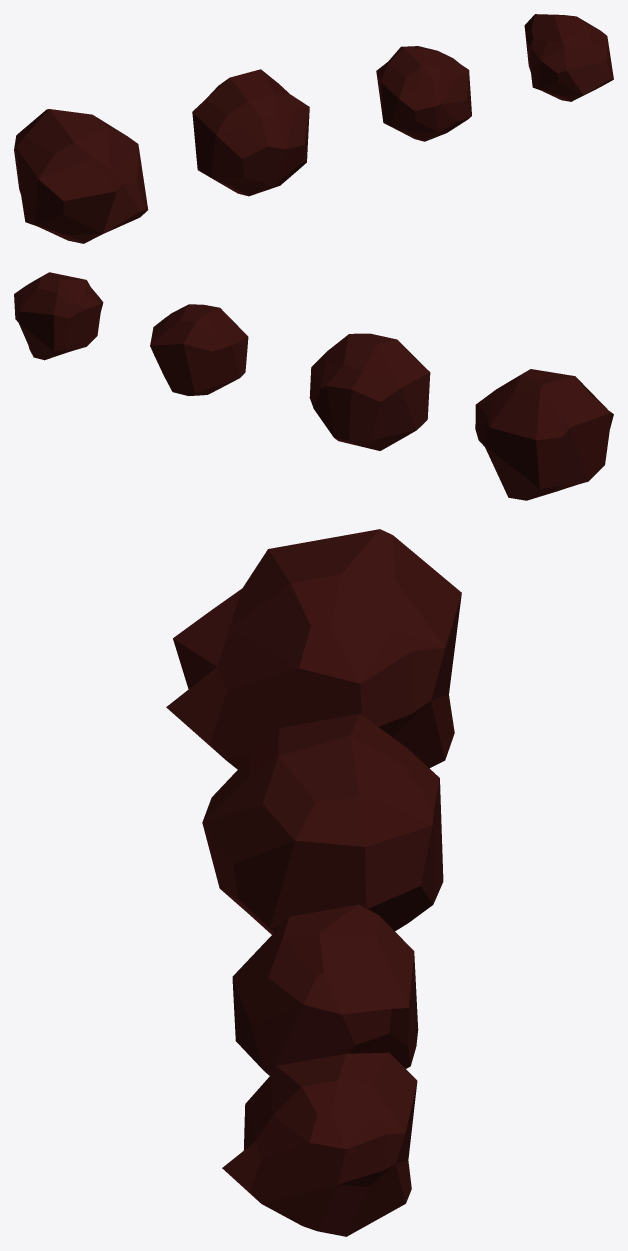
The model's file is rocks.fbx.
3 views of the same model, one above another, from view 1: azimuth 30°, elevation 25°; view 2: azimuth 150°, elevation 25°; view 3: azimuth 270°, elevation 25° (orthographic). The views are drawn at different scales.
Visible parts, largest first — view 1: rock4, rock3, rock2, rock1; view 2: rock4, rock3, rock2, rock1; view 3: rock4, rock3, rock1, rock2.
Part boxes in pixels (<box>): rock4: <box>14,109,148,243</box>; rock3: <box>192,69,309,196</box>; rock2: <box>376,46,471,141</box>; rock1: <box>524,14,613,101</box>; rock4: <box>475,369,613,500</box>; rock3: <box>309,333,430,450</box>; rock2: <box>150,304,248,395</box>; rock1: <box>14,272,103,360</box>; rock4: <box>166,529,461,769</box>; rock3: <box>202,713,443,934</box>; rock1: <box>222,1052,417,1236</box>; rock2: <box>232,904,418,1075</box>.
Bounding box in the file's own units: 1010 × 202 × 224.
